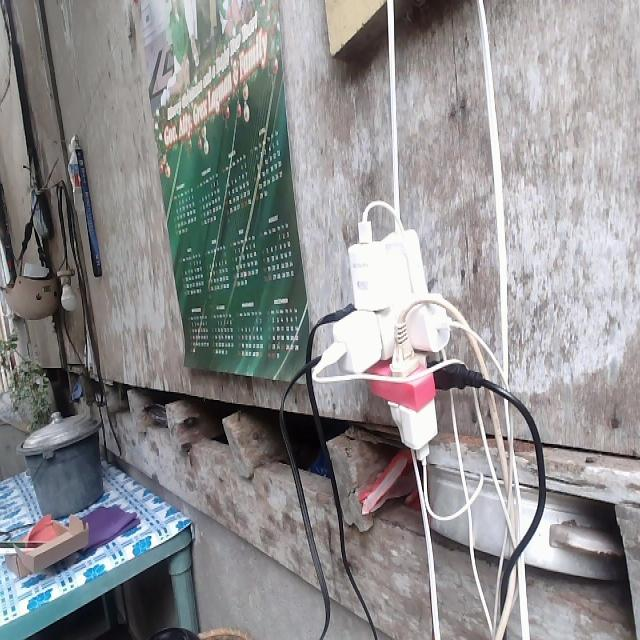-: (320, 221, 473, 463)
